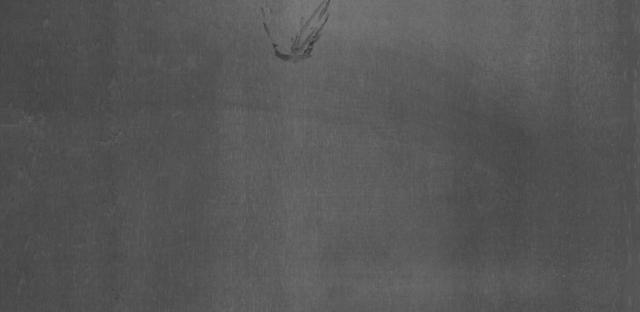water_spot: (242, 1, 344, 71)
